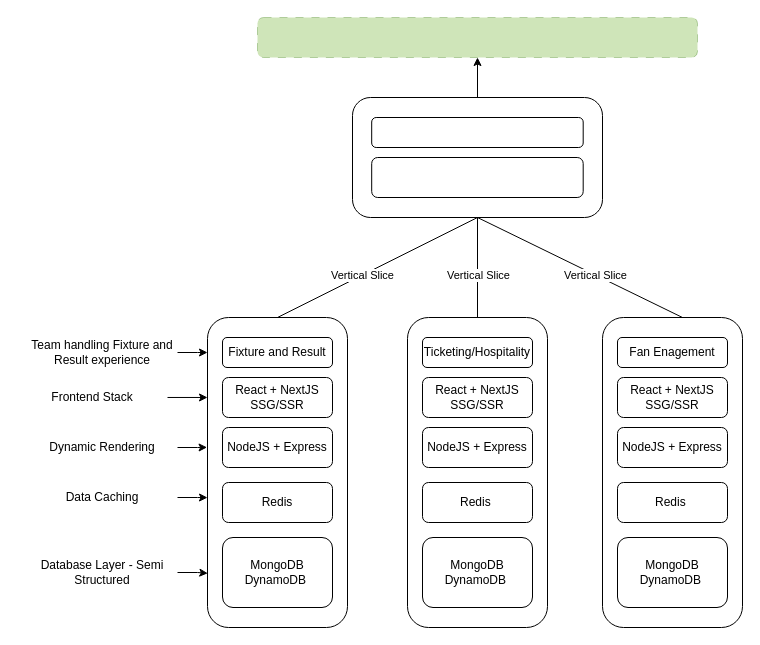
Image size: 760x645. Some labels were removed from this diagram. Each missing label, with the centre of its shape:
"Frontend Tech: Single-SPA, React" goes at pixel 477 177.
"Team: Shell/Container + Design system" goes at pixel 477 132.
"User Experience - Verticals" goes at pixel 477 37.
